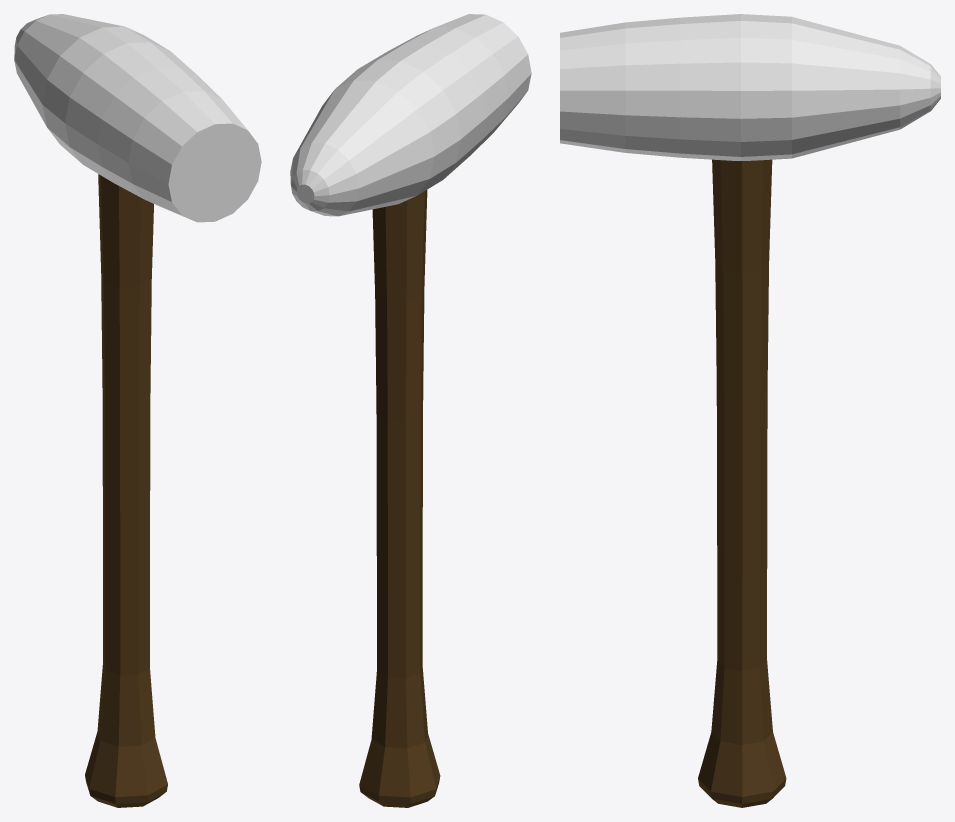
Rendered from hammer_rocket.glb.
3 views of the same model, side by side, from view 1: azimuth 30°, elevation 25°; view 2: azimuth 150°, elevation 25°; view 3: azimuth 270°, elevation 25° (orthographic). The views are drawn at different scales.
Parts seen in each view (by area): view 1: hammer_rocket; view 2: hammer_rocket; view 3: hammer_rocket.
Boxes of the visible parts, bbox=[...] form: hammer_rocket: bbox=[14, 14, 261, 807]; hammer_rocket: bbox=[290, 14, 531, 807]; hammer_rocket: bbox=[560, 14, 940, 807].
Bounding box in the file's own units: 0.0464 × 0.2706 × 0.1197.
